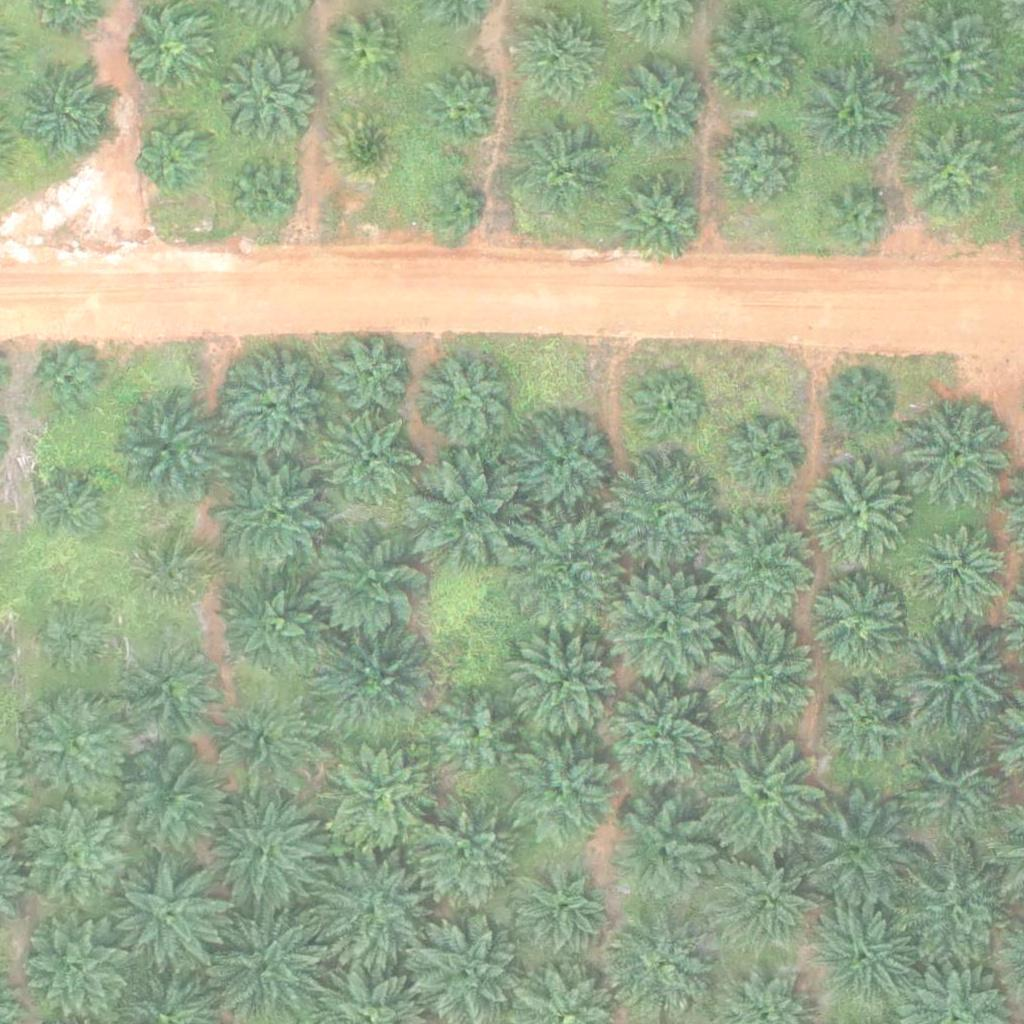Kelapa_Sawit: (104, 388, 229, 514), (106, 854, 231, 980), (211, 449, 336, 575), (306, 519, 431, 645), (403, 452, 528, 578), (506, 511, 631, 637), (600, 676, 725, 802), (701, 618, 826, 744), (700, 733, 825, 859), (796, 789, 921, 915), (892, 609, 1017, 735), (891, 728, 1016, 854), (891, 844, 1016, 970), (512, 629, 625, 743), (114, 745, 227, 858), (210, 799, 323, 912), (510, 734, 623, 847), (503, 852, 616, 965), (604, 800, 717, 913), (704, 511, 817, 624), (607, 567, 719, 681), (712, 846, 824, 960), (20, 685, 132, 798), (22, 800, 134, 913), (220, 571, 332, 684), (207, 687, 319, 800), (319, 624, 431, 737), (324, 743, 436, 856), (317, 853, 429, 966), (405, 798, 517, 911), (602, 452, 714, 565), (902, 11, 1002, 112), (902, 123, 1002, 224), (803, 65, 903, 166), (708, 9, 808, 110), (20, 65, 120, 166), (221, 352, 321, 453), (809, 461, 909, 562), (808, 576, 908, 677), (911, 402, 1011, 503), (905, 523, 1005, 624), (609, 167, 709, 267), (515, 117, 615, 217), (221, 49, 321, 149), (320, 409, 420, 509), (510, 415, 610, 515), (815, 672, 915, 772), (814, 903, 914, 1003), (714, 123, 802, 211), (434, 690, 522, 778), (619, 63, 706, 151), (515, 6, 602, 94), (131, 8, 218, 96), (129, 643, 216, 731), (326, 330, 413, 418), (420, 356, 507, 444), (328, 19, 403, 95), (631, 373, 706, 449), (820, 182, 895, 258), (425, 67, 500, 143), (329, 108, 404, 184), (227, 157, 302, 233), (135, 536, 210, 611), (728, 417, 803, 492), (137, 116, 212, 191), (29, 342, 104, 417), (32, 472, 107, 547), (38, 602, 113, 677), (829, 371, 892, 434), (427, 180, 489, 243)
